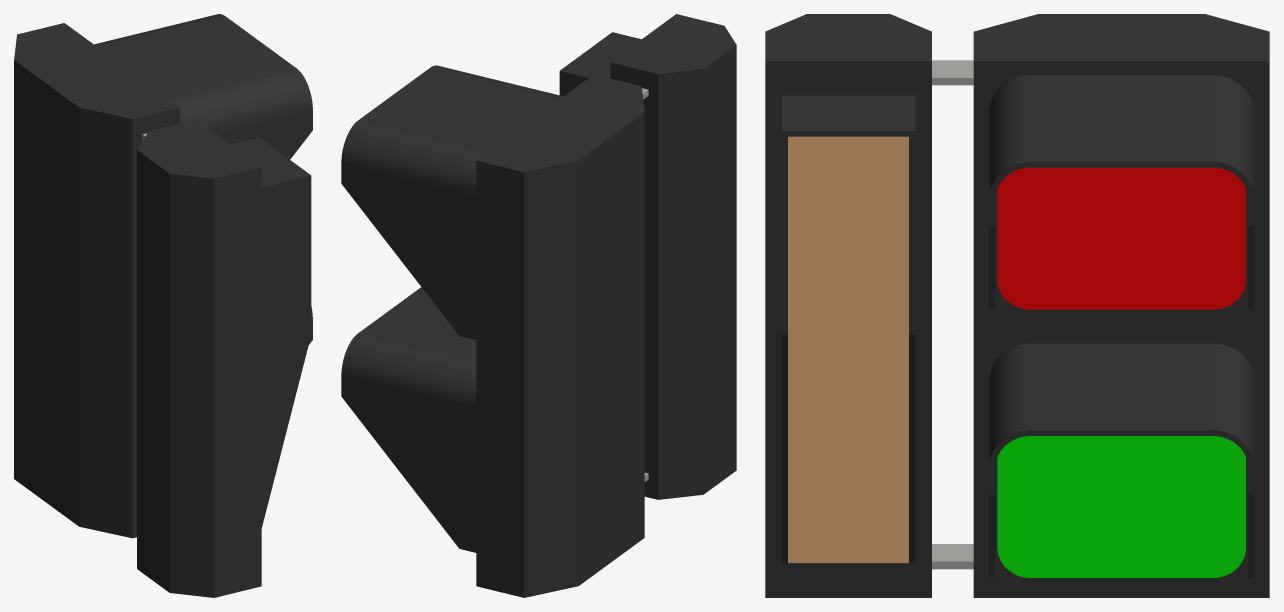
The model's file is RoadTFLight_6type.FBX.
The picture shows the model from 3 angles, left to right: view 1: azimuth 30°, elevation 25°; view 2: azimuth 150°, elevation 25°; view 3: azimuth 270°, elevation 25°; orthographic projection. The views are drawn at different scales.
Parts seen in each view (by area): view 1: RoadTFLight_6type; view 2: RoadTFLight_6type; view 3: RoadTFLight_6type.
Part boxes in pixels (box(x1,y1,x2,y2)): RoadTFLight_6type: box(14, 14, 312, 597); RoadTFLight_6type: box(341, 14, 736, 597); RoadTFLight_6type: box(765, 14, 1269, 597).
Size of the model in its own units: 38 by 71 by 60.5.
